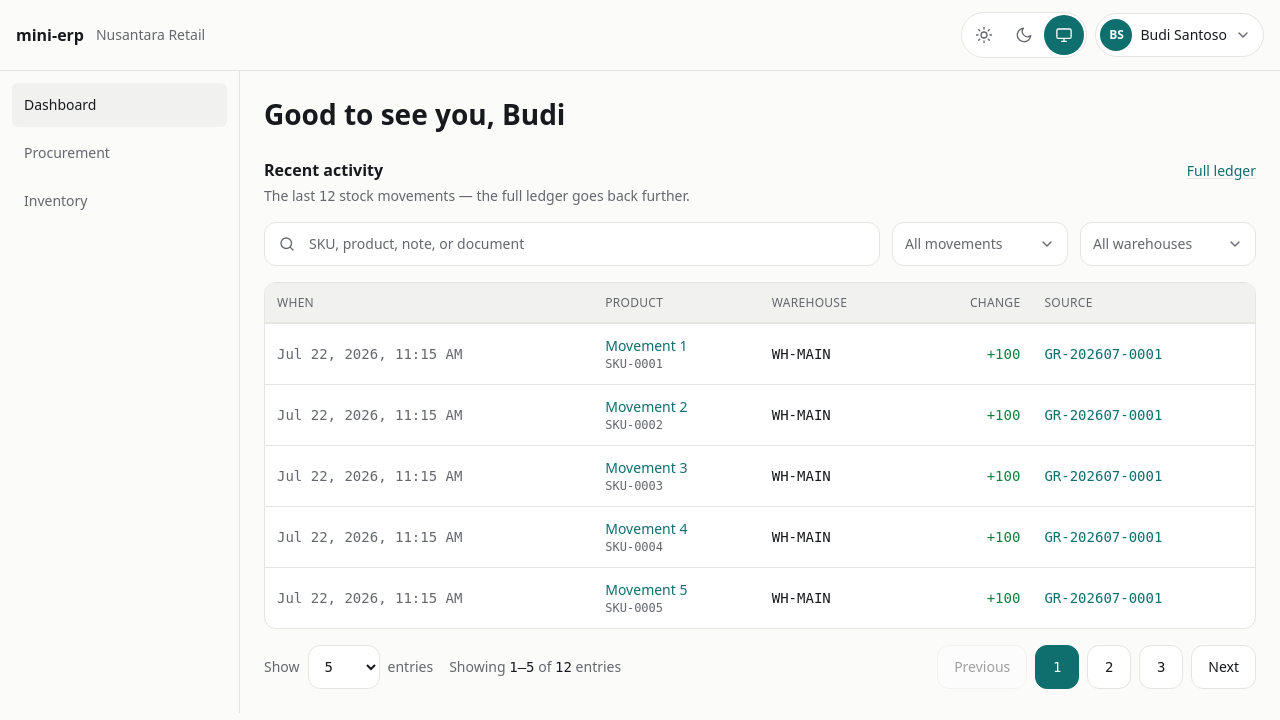
Test: FE32 — the activity table, and the one way it could mislead › shows five rows a page, and pages through the rest
This screenshot has width=1280, height=720.
Expected: the link "mini-erp" is shown, [16,23,84,47]
Expected: the link "Movement 1" is shown, [605,336,688,355]
What coordinates should you click on to do the following:
click the button named "Page 3"
I would click on:
 (1161, 667)
Its box is [1139,645,1183,689].
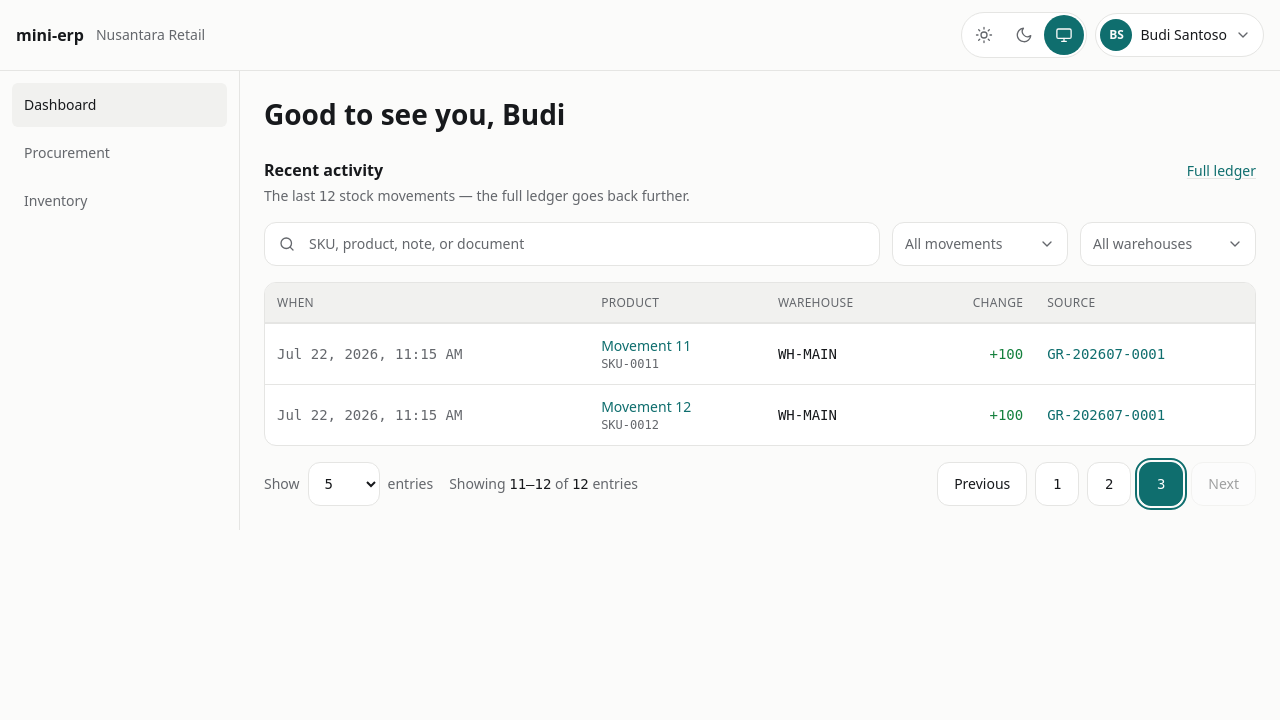
Now the link "Movement 11" is shown, box [601,336,691,355]
